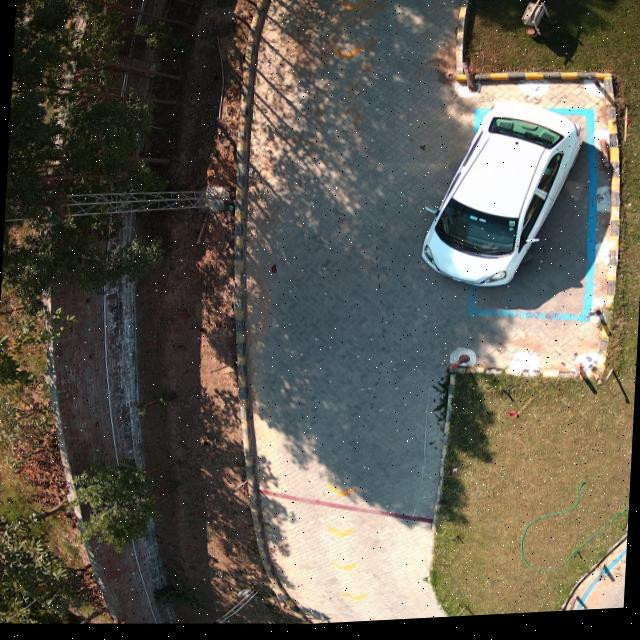car: (421, 106, 583, 293)
